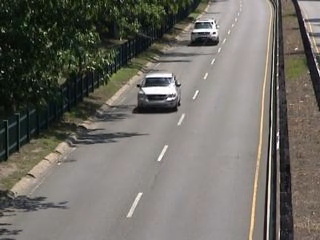car: (135, 70, 186, 115), (189, 16, 222, 45)
